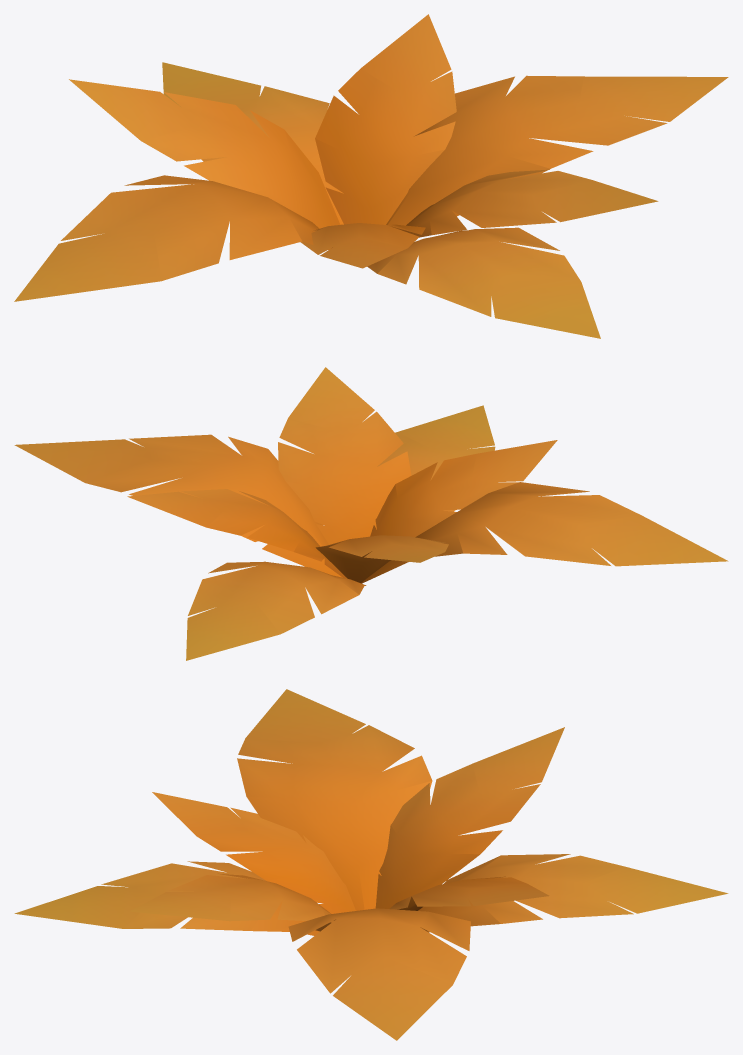
File: Grass_4.fbx
3 views of the same model, one above another, from view 1: azimuth 30°, elevation 25°; view 2: azimuth 150°, elevation 25°; view 3: azimuth 270°, elevation 25° (orthographic). The views are drawn at different scales.
Visible parts, largest first — view 1: Grass_1.001; view 2: Grass_1.001; view 3: Grass_1.001.
Part boxes in pixels (box(x1,y1,x2,y2)): Grass_1.001: box(14, 14, 728, 338); Grass_1.001: box(14, 367, 728, 660); Grass_1.001: box(14, 689, 728, 1040).
Size of the model in its own units: 0.6675 by 0.5863 by 0.1249.
